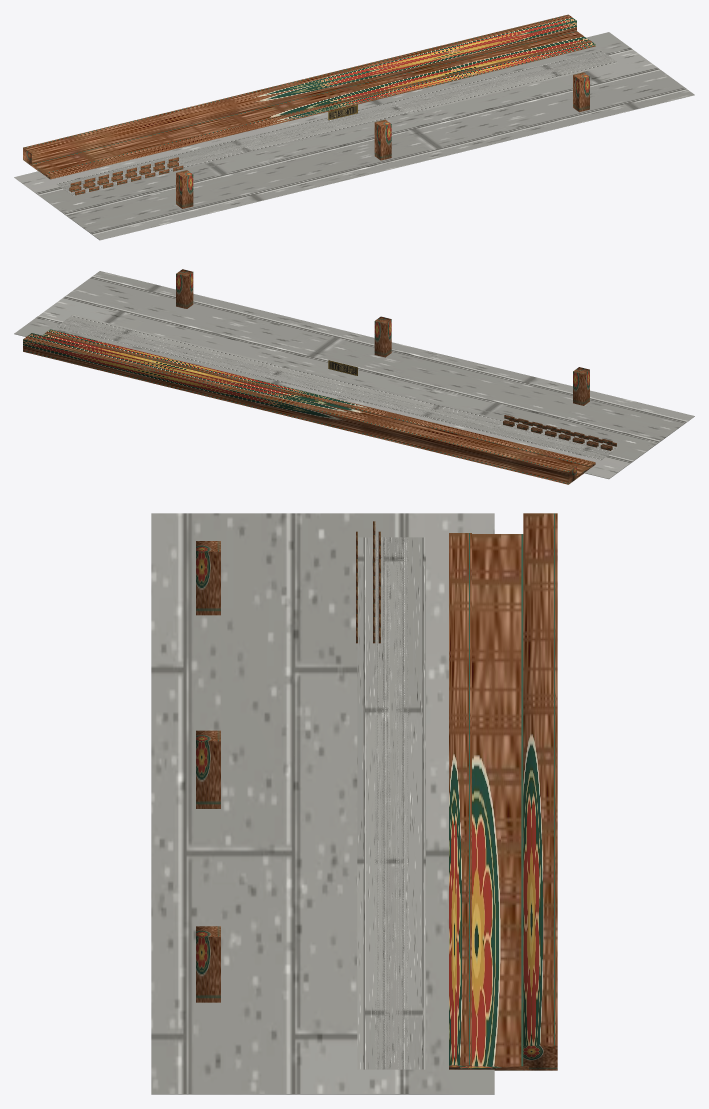
3 renders of one model, top to bottom at view 1: azimuth 30°, elevation 25°; view 2: azimuth 150°, elevation 25°; view 3: azimuth 270°, elevation 25°, orthographic. The views are drawn at different scales.
Visible parts, largest first — view 1: 11140_02_04520_040_01_L2__base, 11140_02_04520_040_02_L2__body, 11140_02_04520_040_06_L2__green, 11140_02_04520_040_05_L2__openings; view 2: 11140_02_04520_040_01_L2__base, 11140_02_04520_040_02_L2__body, 11140_02_04520_040_06_L2__green, 11140_02_04520_040_05_L2__openings; view 3: 11140_02_04520_040_01_L2__base, 11140_02_04520_040_02_L2__body, 11140_02_04520_040_06_L2__green, 11140_02_04520_040_05_L2__openings.
Boxes of the visible parts, <box> form: 11140_02_04520_040_01_L2__base: <box>14,32,694,240</box>; 11140_02_04520_040_02_L2__body: <box>23,14,595,179</box>; 11140_02_04520_040_06_L2__green: <box>176,72,589,208</box>; 11140_02_04520_040_05_L2__openings: <box>69,157,183,195</box>; 11140_02_04520_040_01_L2__base: <box>14,271,694,479</box>; 11140_02_04520_040_02_L2__body: <box>23,329,595,484</box>; 11140_02_04520_040_06_L2__green: <box>176,269,589,405</box>; 11140_02_04520_040_05_L2__openings: <box>503,415,616,450</box>; 11140_02_04520_040_01_L2__base: <box>151,513,494,1094</box>; 11140_02_04520_040_02_L2__body: <box>449,513,557,1070</box>; 11140_02_04520_040_06_L2__green: <box>196,541,220,1002</box>; 11140_02_04520_040_05_L2__openings: <box>356,521,380,643</box>.
Bounding box in the file's own units: 120 × 6.6 × 35.5.
4 materials, 4 textured.
